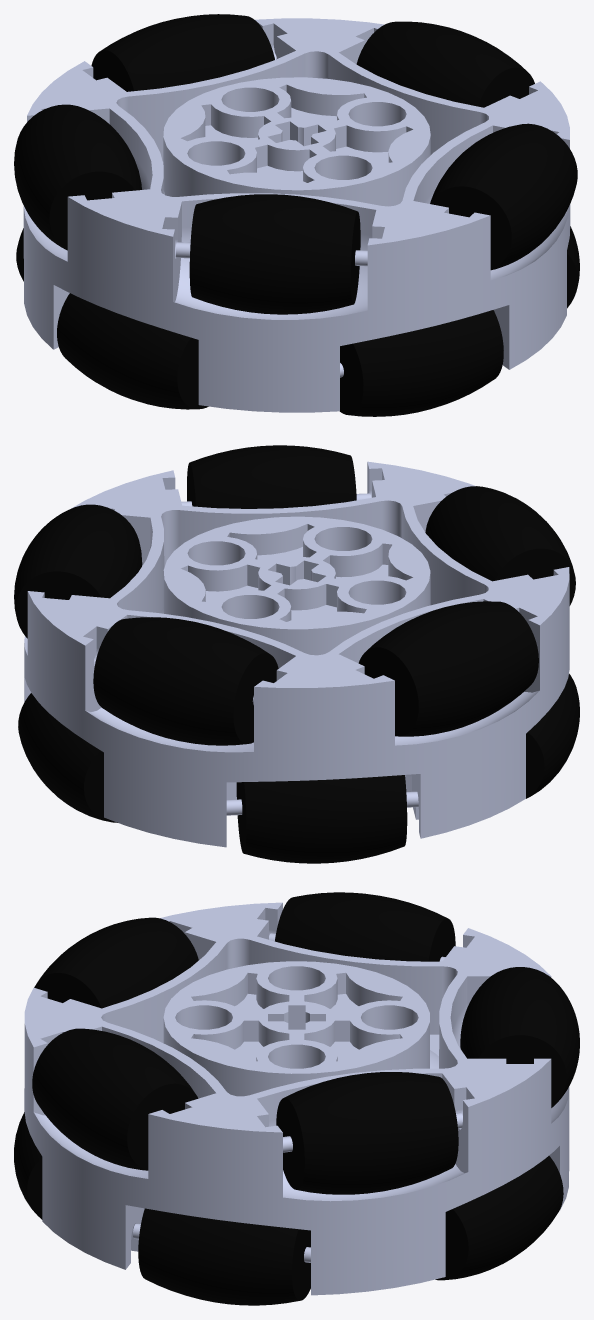
File: Roda_Omni_53mm.glb
The picture shows the model from 3 angles, top to bottom: view 1: azimuth 30°, elevation 25°; view 2: azimuth 150°, elevation 25°; view 3: azimuth 270°, elevation 25°; orthographic projection.
Visible parts, largest first — view 1: Solid1 (×9); view 2: Solid1 (×9); view 3: Solid1 (×9).
Boxes of the visible parts, box(x1,y1,x2,y2) form: Solid1 (×9): box(14, 14, 579, 416); Solid1 (×9): box(14, 445, 579, 863); Solid1 (×9): box(14, 892, 579, 1305).
Bounding box in the file's own units: 0.0541 × 0.0232 × 0.0543.
